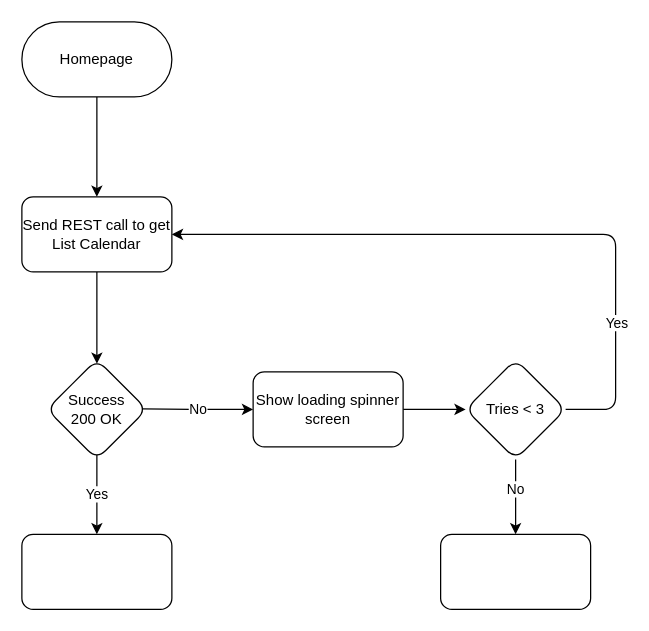
Image size: 649x631. Some labels were removed from this diagram. Here are the shapes that lost their labels. From the top down, the centre of each, then its label:
point (96, 571): Show Calendar
point (515, 571): Show error code screen
